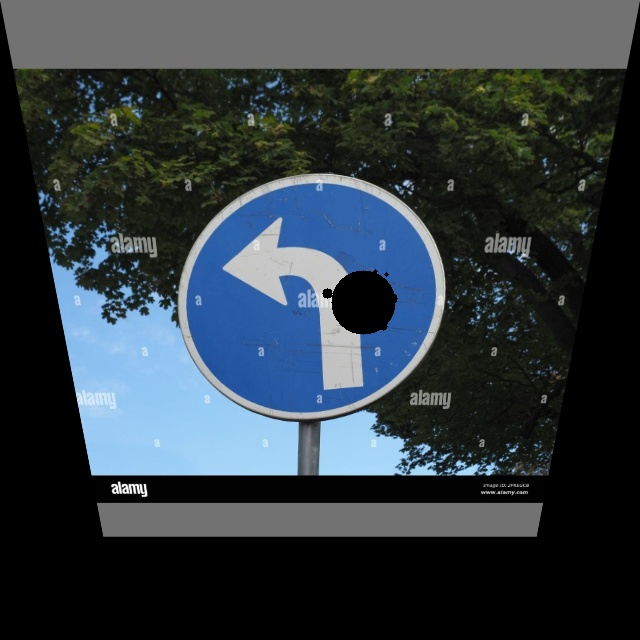Compulsory_Turn_Left_Ahead: (165, 174, 452, 424)
